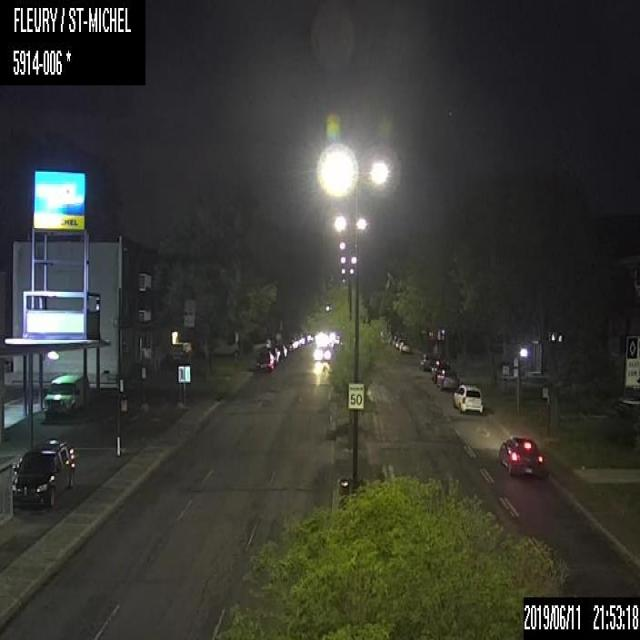vehicle: (8, 434, 76, 511), (42, 372, 90, 415), (498, 434, 546, 474), (454, 381, 484, 412), (256, 347, 274, 373), (430, 358, 449, 382), (436, 370, 457, 390), (312, 342, 332, 363), (419, 352, 438, 371), (398, 340, 411, 352)
